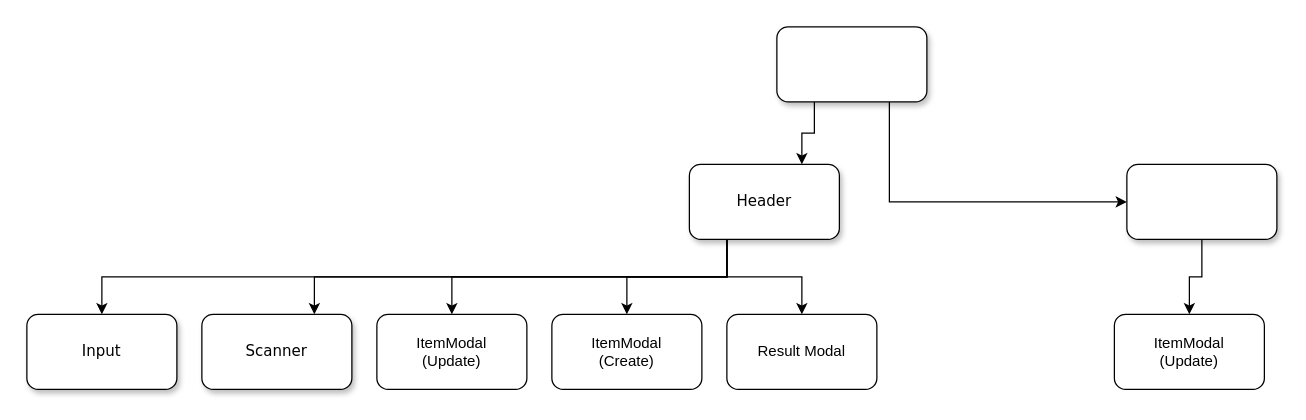
The diagram is 1306 pixels wide and 420 high, and some of its shapes have lost their labels. The shapes that lost their labels are listed below. From the top down, each one's centre as x and y in pixels, then its label:
At (852,66): "App".
At (1202,203): "ItemList".
